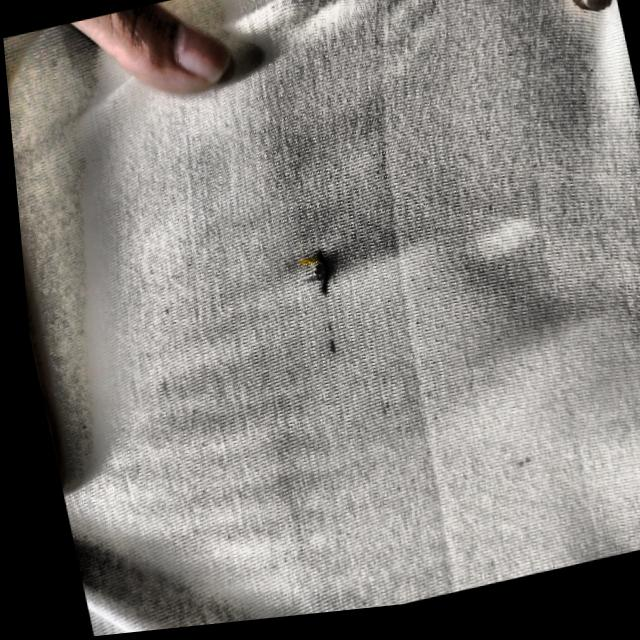Hole: (305, 267, 320, 287), (320, 341, 330, 359)
Stitch: (313, 255, 325, 287), (315, 285, 323, 299)
